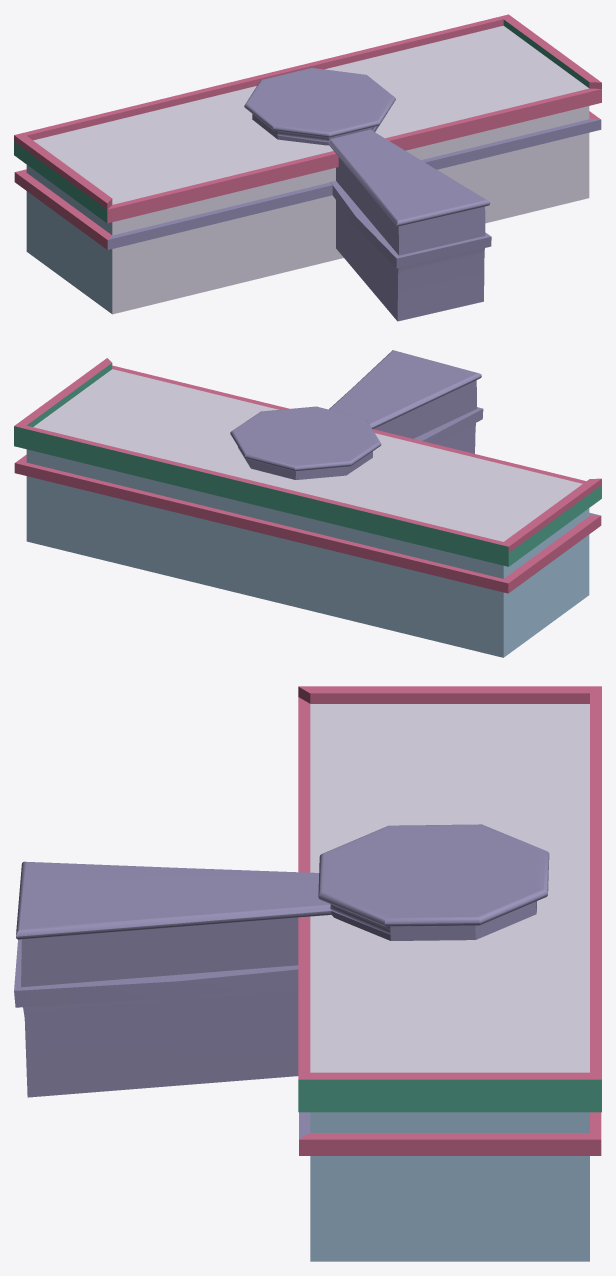
File: tawloula.fbx
3 renders of one model, top to bottom at view 1: azimuth 30°, elevation 25°; view 2: azimuth 150°, elevation 25°; view 3: azimuth 270°, elevation 25°, orthographic. The views are drawn at different scales.
Visible parts, largest first — view 1: pCube9, pCylinder1; view 2: pCube9, pCylinder1; view 3: pCube9, pCylinder1.
Boxes of the visible parts, x1,y1,x2,y2 form: pCube9: (14, 14, 601, 314); pCylinder1: (244, 67, 491, 321); pCube9: (14, 358, 601, 657); pCylinder1: (230, 350, 483, 479); pCube9: (298, 686, 601, 1261); pCylinder1: (14, 824, 549, 1097).
Size of the model in its own units: 17.44 by 4.31 by 11.02.
